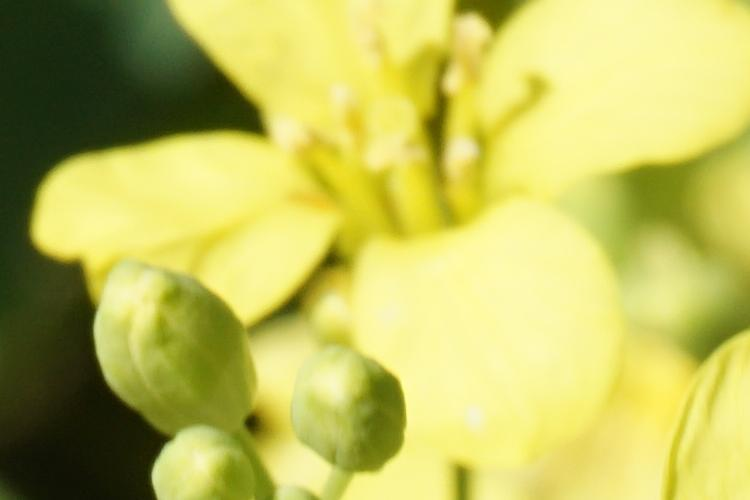pod: (88, 248, 267, 440), (293, 341, 414, 470), (141, 425, 263, 500)
yellow: (44, 13, 733, 462)
